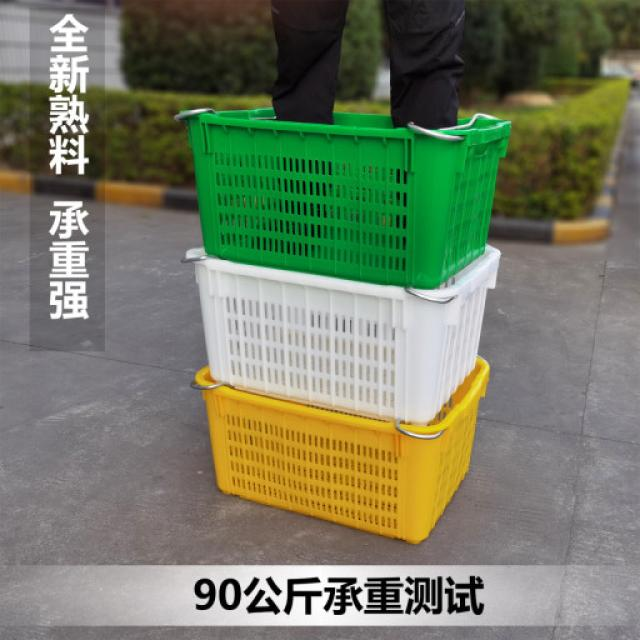basket: (178, 105, 511, 291), (186, 246, 499, 424), (203, 359, 490, 544)
